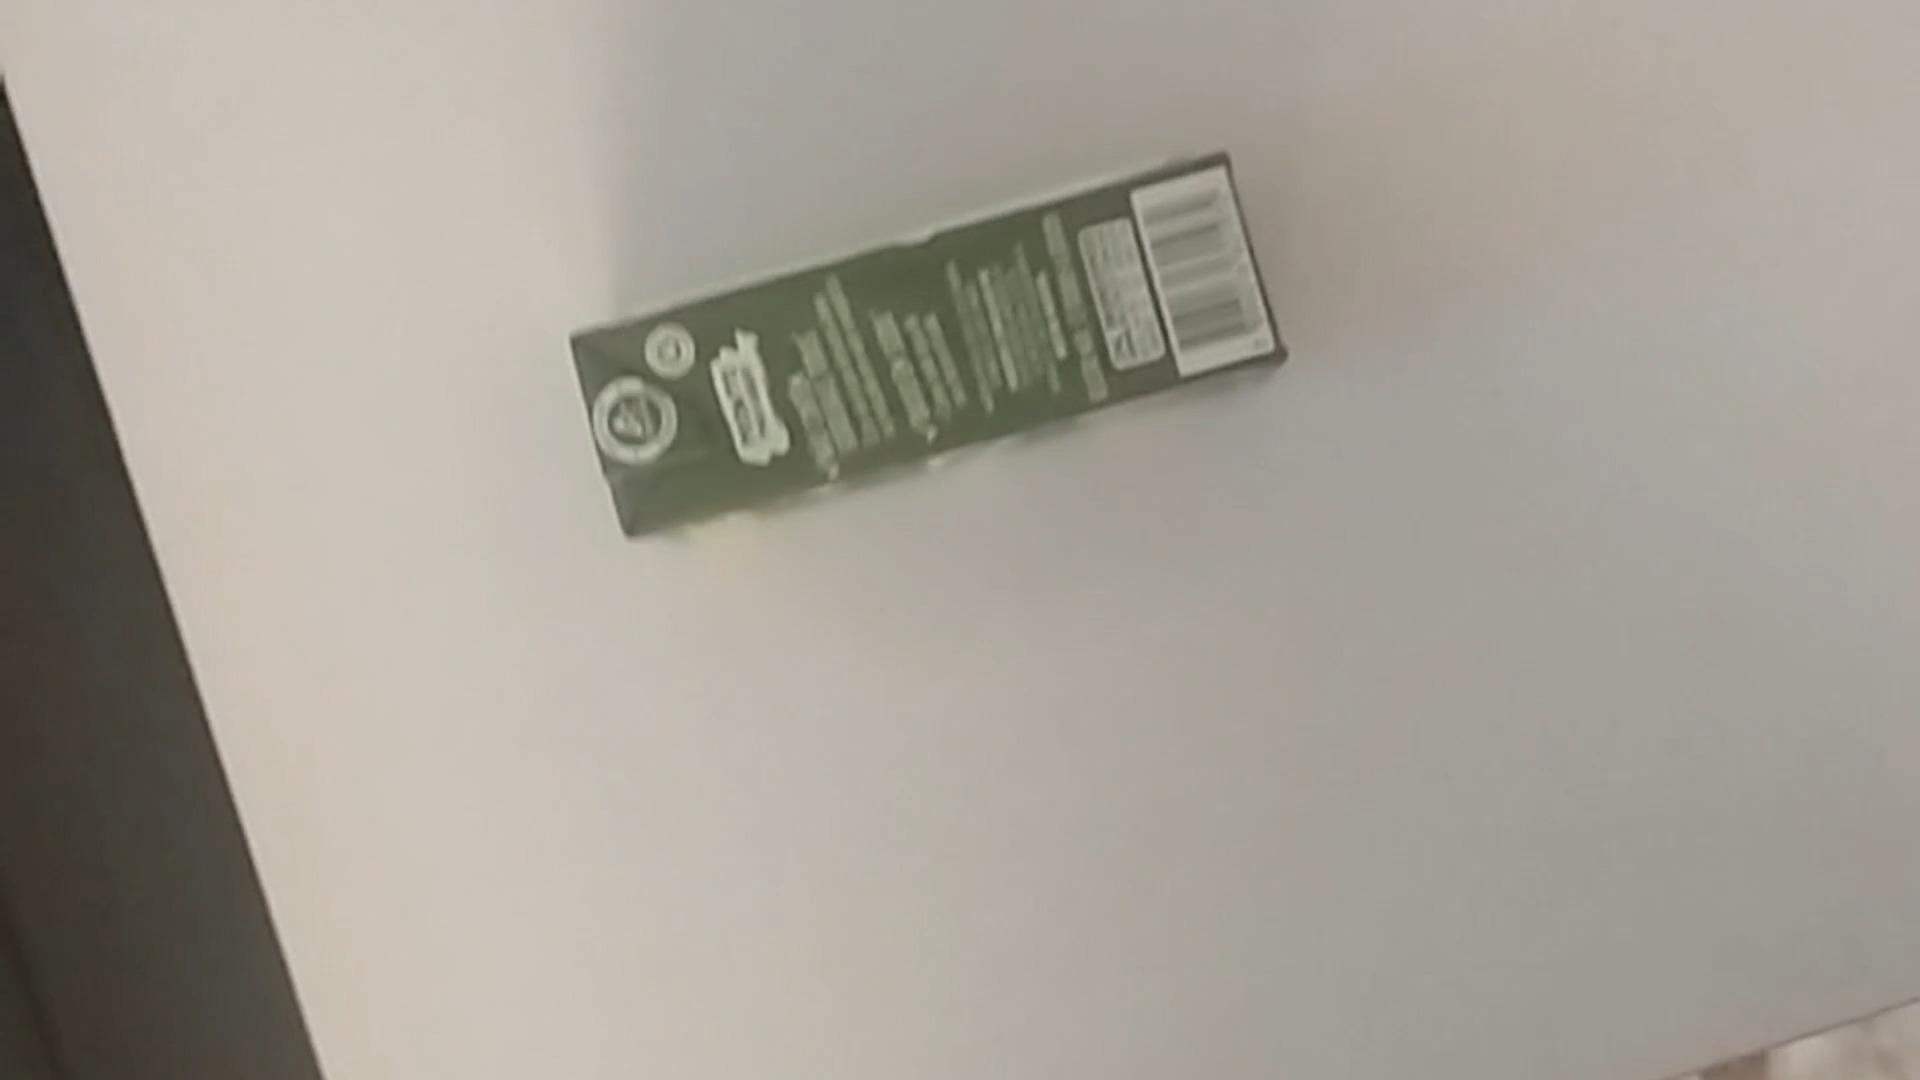coco: (560, 140, 1298, 541)
